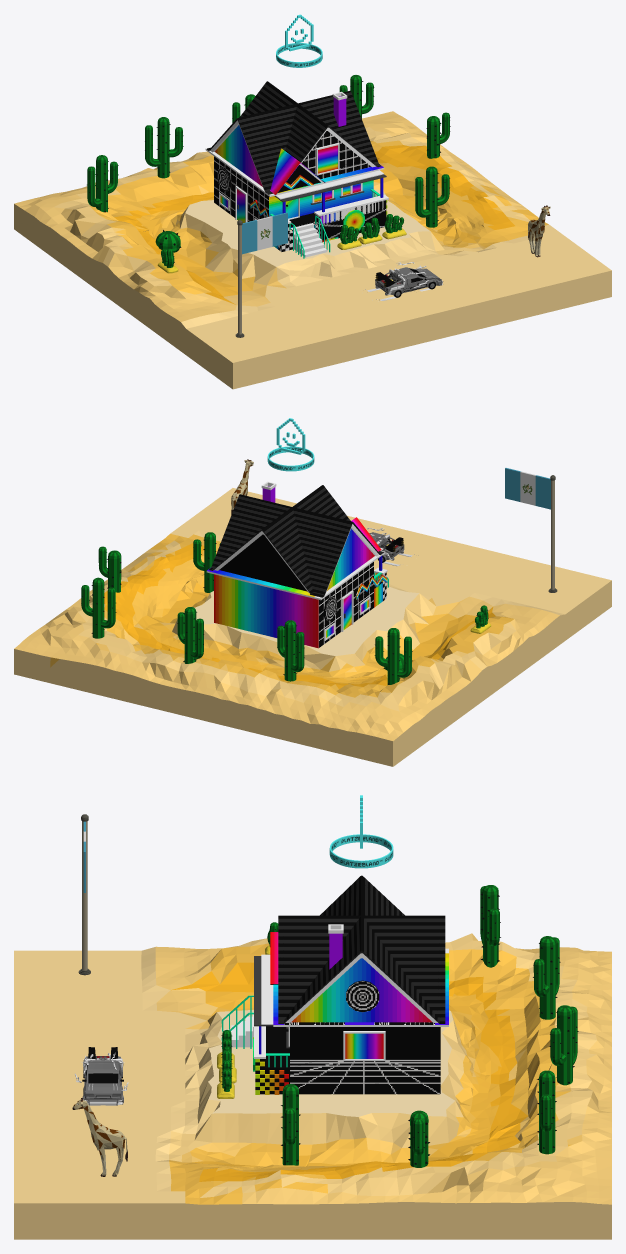
3 renders of one model, top to bottom at view 1: azimuth 30°, elevation 25°; view 2: azimuth 150°, elevation 25°; view 3: azimuth 270°, elevation 25°, orthographic. The views are drawn at different scales.
Visible parts, largest first — view 1: Cube.001, Cube.1320, OBJRANDOM_GUATEMALAN_FLAG, VEHICLES_DELOREAN, Cylinder.044, Cylinder.037, Cylinder.045, TYPE_PREMIUM, Cylinder.038, Cylinder.042, ANIMAL_JIRAFA; view 2: Cube.001, Cube.1320, OBJRANDOM_GUATEMALAN_FLAG, Cylinder.042, Cylinder.045, Cylinder.044, Cylinder.043, TYPE_PREMIUM, Cylinder.037, Cylinder.038, VEHICLES_DELOREAN; view 3: Cube.001, Cube.1320, VEHICLES_DELOREAN, Cylinder.044, Cylinder.043, Cylinder.045, Cylinder.042, Cylinder.037, ANIMAL_JIRAFA, TYPE_PREMIUM, Cylinder.038, OBJRANDOM_GUATEMALAN_FLAG.
Boxes of the visible parts, x1,y1,x2,y2 form: Cube.001: (14,111,611,389); Cube.1320: (205,81,388,258); OBJRANDOM_GUATEMALAN_FLAG: (235,212,287,337); VEHICLES_DELOREAN: (365,262,443,301); Cylinder.044: (145,117,183,178); Cylinder.037: (415,166,449,227); Cylinder.045: (87,155,118,212); TYPE_PREMIUM: (276,14,322,67); Cylinder.038: (426,112,450,158); Cylinder.042: (339,75,374,118); ANIMAL_JIRAFA: (528,205,550,257); Cube.001: (14,488,611,766); Cube.1320: (206,481,388,648); OBJRANDOM_GUATEMALAN_FLAG: (505,468,557,592); Cylinder.042: (81,577,116,638); Cylinder.045: (374,628,412,684); Cylinder.044: (277,620,304,681); Cylinder.043: (177,607,203,663); TYPE_PREMIUM: (267,418,314,471); Cylinder.037: (193,532,220,592); Cylinder.038: (98,546,121,592); VEHICLES_DELOREAN: (367,527,418,566); Cube.001: (14,933,611,1239); Cube.1320: (221,875,448,1094); VEHICLES_DELOREAN: (74,1047,128,1105); Cylinder.044: (533,936,560,1019); Cylinder.043: (549,1005,578,1085); Cylinder.045: (480,885,500,967); Cylinder.042: (537,1070,556,1154); Cylinder.037: (281,1084,300,1165); ANIMAL_JIRAFA: (72,1098,127,1176); TYPE_PREMIUM: (329,795,393,868); Cylinder.038: (408,1110,429,1167); OBJRANDOM_GUATEMALAN_FLAG: (78,814,90,975).
Bounding box in the file's own units: 4002 × 2460 × 4001.
40 materials, 6 textured.
